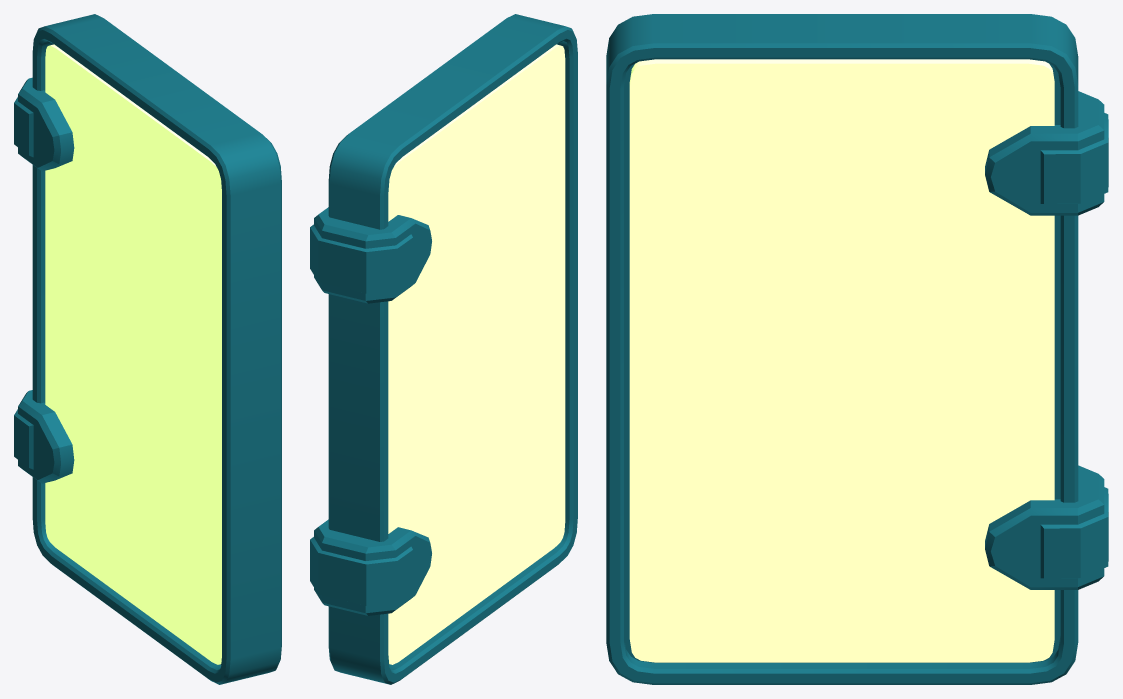
The model's file is Mesh_Plattform_Sign_01.FBX.
3 renders of one model, left to right at view 1: azimuth 30°, elevation 25°; view 2: azimuth 150°, elevation 25°; view 3: azimuth 270°, elevation 25°, orthographic. The views are drawn at different scales.
Parts seen in each view (by area): view 1: Mesh_Plattform_Sign_01; view 2: Mesh_Plattform_Sign_01; view 3: Mesh_Plattform_Sign_01.
Part boxes in pixels (box(x1,y1,x2,y2)): Mesh_Plattform_Sign_01: box(14, 14, 281, 684); Mesh_Plattform_Sign_01: box(310, 14, 577, 684); Mesh_Plattform_Sign_01: box(606, 14, 1108, 684).
Bounding box in the file's own units: 263 × 1524 × 1082.
